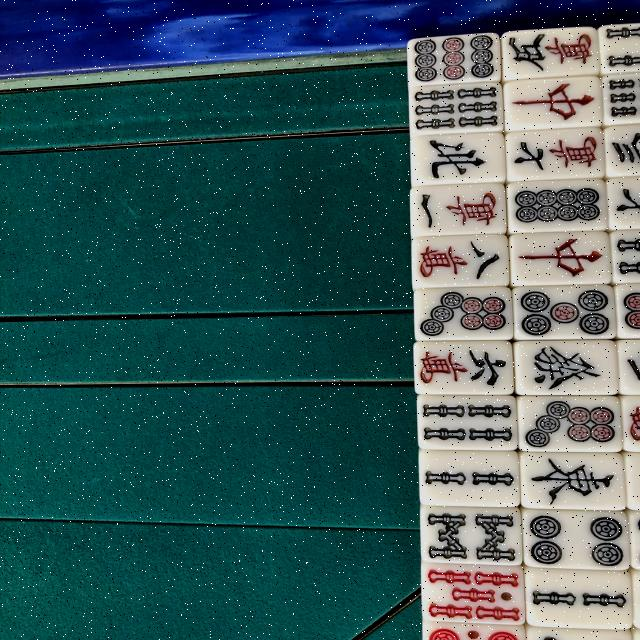bamboos_2: (526, 568, 634, 629), (418, 451, 520, 507)
bamboos_4: (418, 396, 517, 449)
bamboos_5: (424, 565, 524, 625)
bamboos_6: (408, 85, 504, 134)
bamboos_8: (419, 506, 524, 566)
characters_1: (412, 183, 507, 234)
characters_5: (501, 30, 603, 76)
characters_6: (412, 341, 514, 396)
characters_7: (504, 130, 606, 179)
characters_8: (411, 236, 510, 286)
circles_4: (520, 509, 630, 569)
circles_5: (510, 287, 617, 340)
circles_7: (516, 396, 623, 452), (412, 288, 510, 340)
circles_8: (507, 180, 608, 230)
circles_9: (408, 34, 502, 84)
east: (520, 452, 626, 510)
green: (513, 342, 619, 396)
north: (409, 131, 505, 183)
red: (507, 233, 611, 285), (502, 78, 606, 128)
